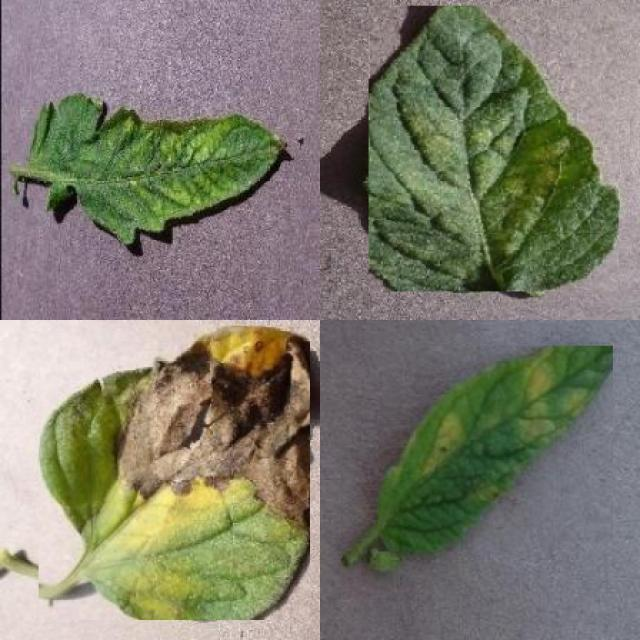Late Blight: (39, 326, 311, 620)
Leaf Mold: (378, 347, 613, 552)
Mosaic Virus: (25, 92, 288, 245)
Spider Mites: (368, 5, 618, 292)
